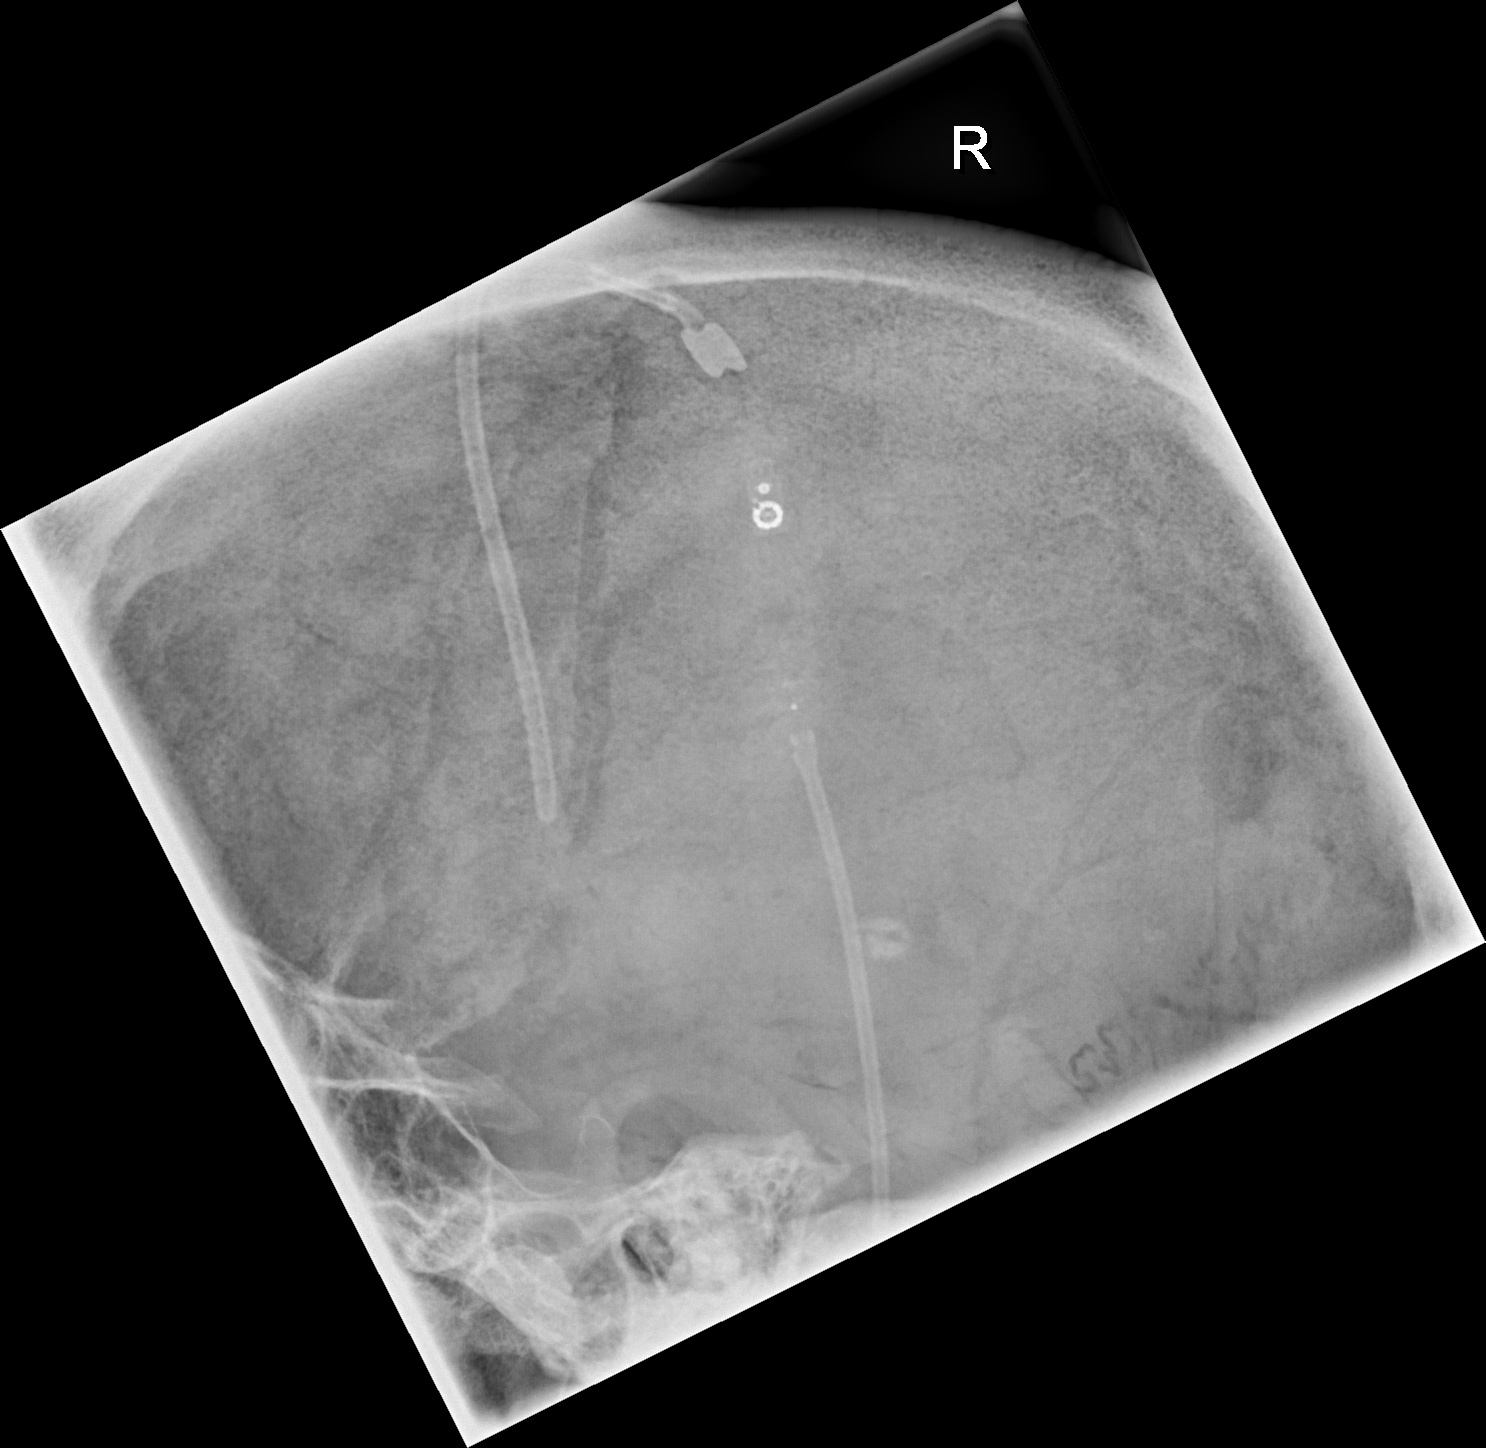Codman Hakim: (732, 472, 797, 548)
